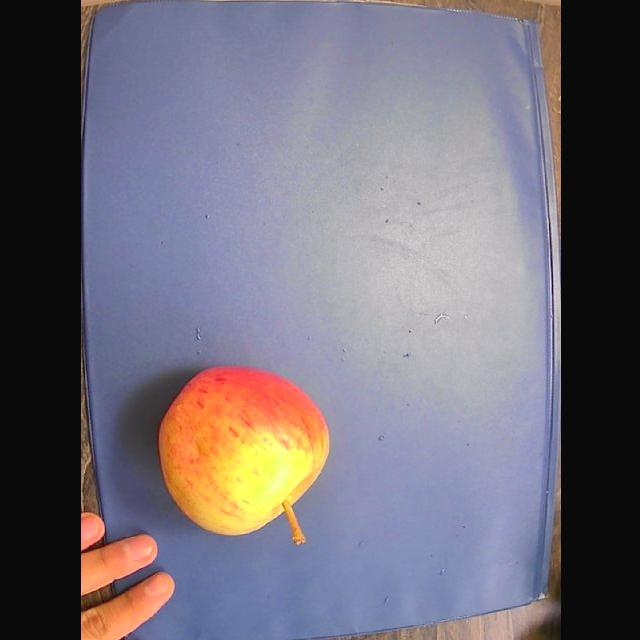manzana: (158, 367, 329, 544)
